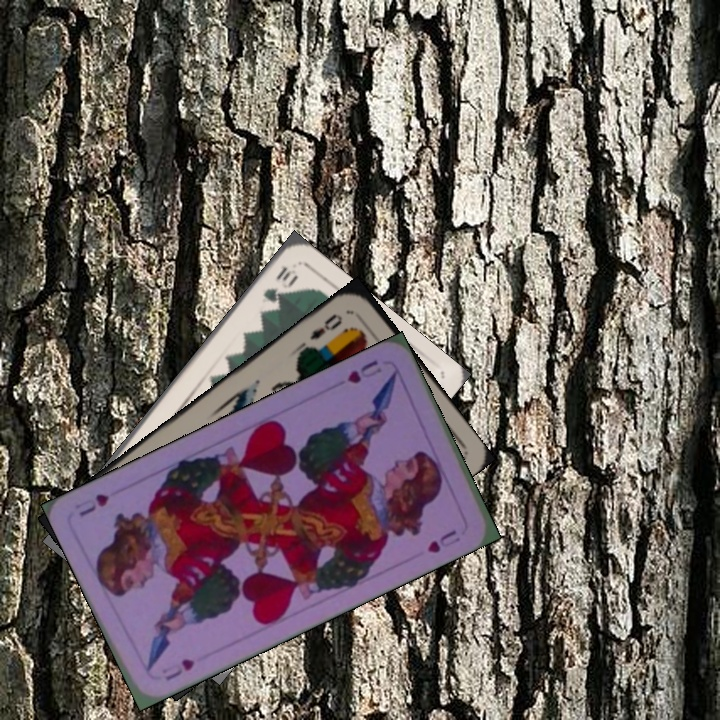EO: (305, 309, 345, 343)
G10: (259, 262, 301, 305)
HU: (343, 356, 385, 387), (157, 654, 198, 684)
